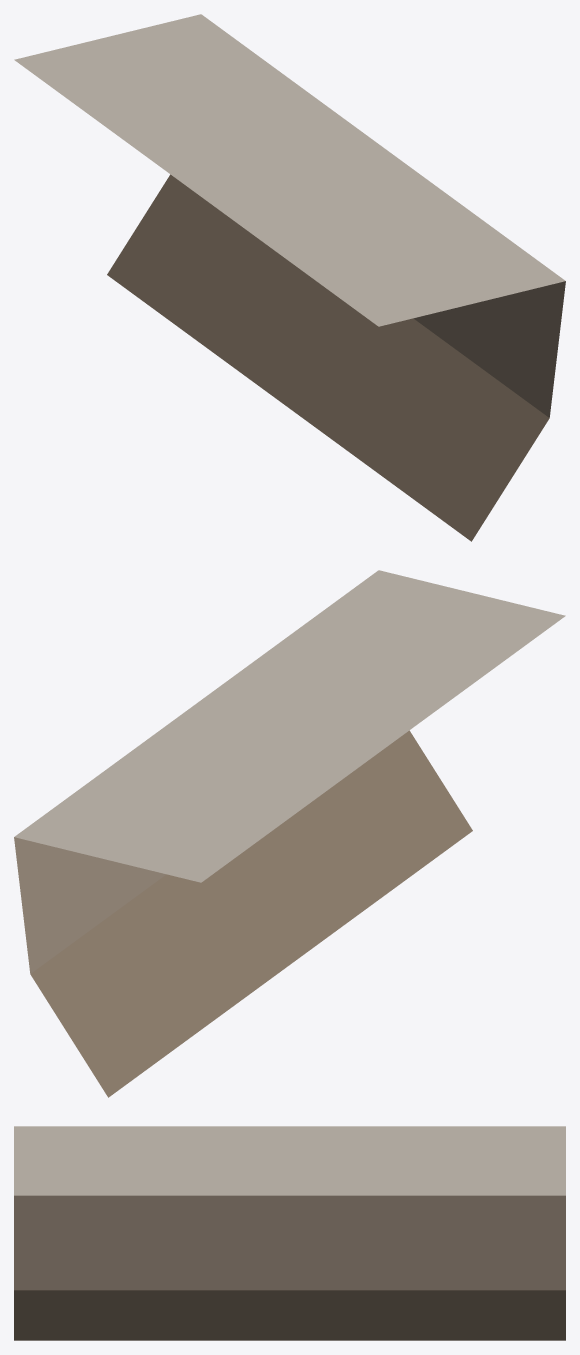
The model's file is red_brick_building_parapet_side.fbx.
The picture shows the model from 3 angles, top to bottom: view 1: azimuth 30°, elevation 25°; view 2: azimuth 150°, elevation 25°; view 3: azimuth 270°, elevation 25°; orthographic projection. The views are drawn at different scales.
Parts seen in each view (by area): view 1: red_brick_building_parapet_side; view 2: red_brick_building_parapet_side; view 3: red_brick_building_parapet_side.
Boxes of the visible parts, x1,y1,x2,y2 form: red_brick_building_parapet_side: [14, 14, 565, 541]; red_brick_building_parapet_side: [14, 570, 565, 1097]; red_brick_building_parapet_side: [14, 1126, 565, 1340].
Bounding box in the file's own units: 101 × 122 × 340.
